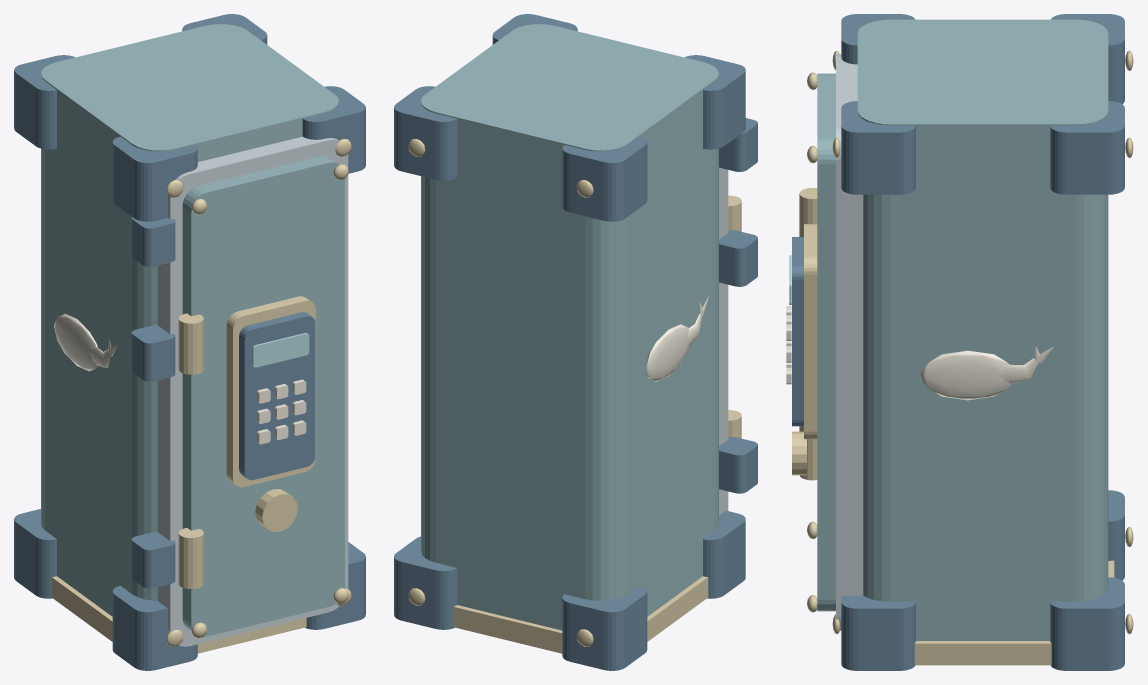
Rendered from library_safe_tall.glb.
The picture shows the model from 3 angles, left to right: view 1: azimuth 30°, elevation 25°; view 2: azimuth 150°, elevation 25°; view 3: azimuth 270°, elevation 25°; orthographic projection. The views are drawn at different scales.
Visible parts, largest first — view 1: decor_527f86_matte, decor_29445e_matte, decor_9aadb8_metal, decor_bca46d_metal, decor_e0d7bf_matte, decor_75b7bf_matte; view 2: decor_527f86_matte, decor_29445e_matte, decor_bca46d_metal, decor_9aadb8_metal, decor_e0d7bf_matte; view 3: decor_527f86_matte, decor_29445e_matte, decor_9aadb8_metal, decor_bca46d_metal, decor_e0d7bf_matte.
Part boxes in pixels (x1=…): decor_527f86_matte: x1=41, y1=24, x2=344, y2=636; decor_29445e_matte: x1=14, y1=14, x2=365, y2=670; decor_9aadb8_metal: x1=157, y1=136, x2=348, y2=646; decor_bca46d_metal: x1=51, y1=139, x2=351, y2=653; decor_e0d7bf_matte: x1=54, y1=314, x2=306, y2=444; decor_75b7bf_matte: x1=252, y1=333, x2=309, y2=367; decor_527f86_matte: x1=421, y1=24, x2=718, y2=630; decor_29445e_matte: x1=394, y1=14, x2=757, y2=670; decor_bca46d_metal: x1=408, y1=139, x2=741, y2=653; decor_9aadb8_metal: x1=719, y1=167, x2=728, y2=515; decor_e0d7bf_matte: x1=645, y1=296, x2=708, y2=381; decor_527f86_matte: x1=817, y1=19, x2=1108, y2=640; decor_29445e_matte: x1=792, y1=14, x2=1124, y2=670; decor_9aadb8_metal: x1=836, y1=54, x2=863, y2=630; decor_bca46d_metal: x1=792, y1=50, x2=1133, y2=665; decor_e0d7bf_matte: x1=786, y1=306, x2=1053, y2=400.
Bounding box in the file's own units: 0.95 × 2 × 1.16.
